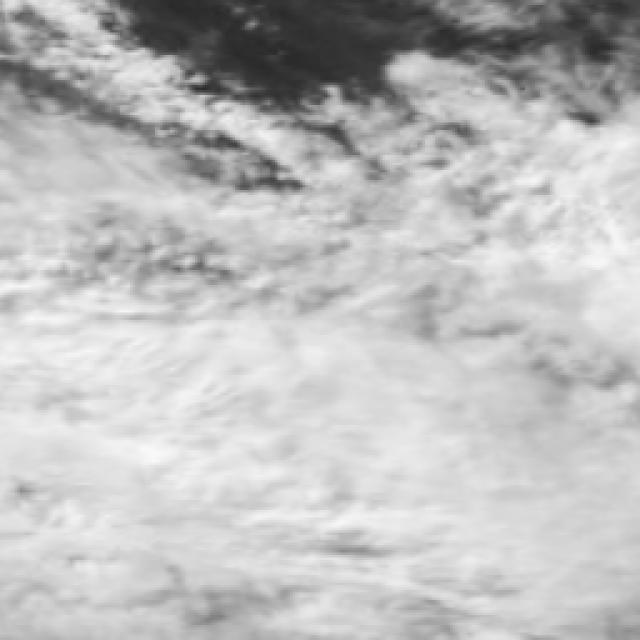CB: (384, 377, 620, 603), (18, 340, 222, 568), (228, 367, 399, 578), (457, 167, 640, 340)
